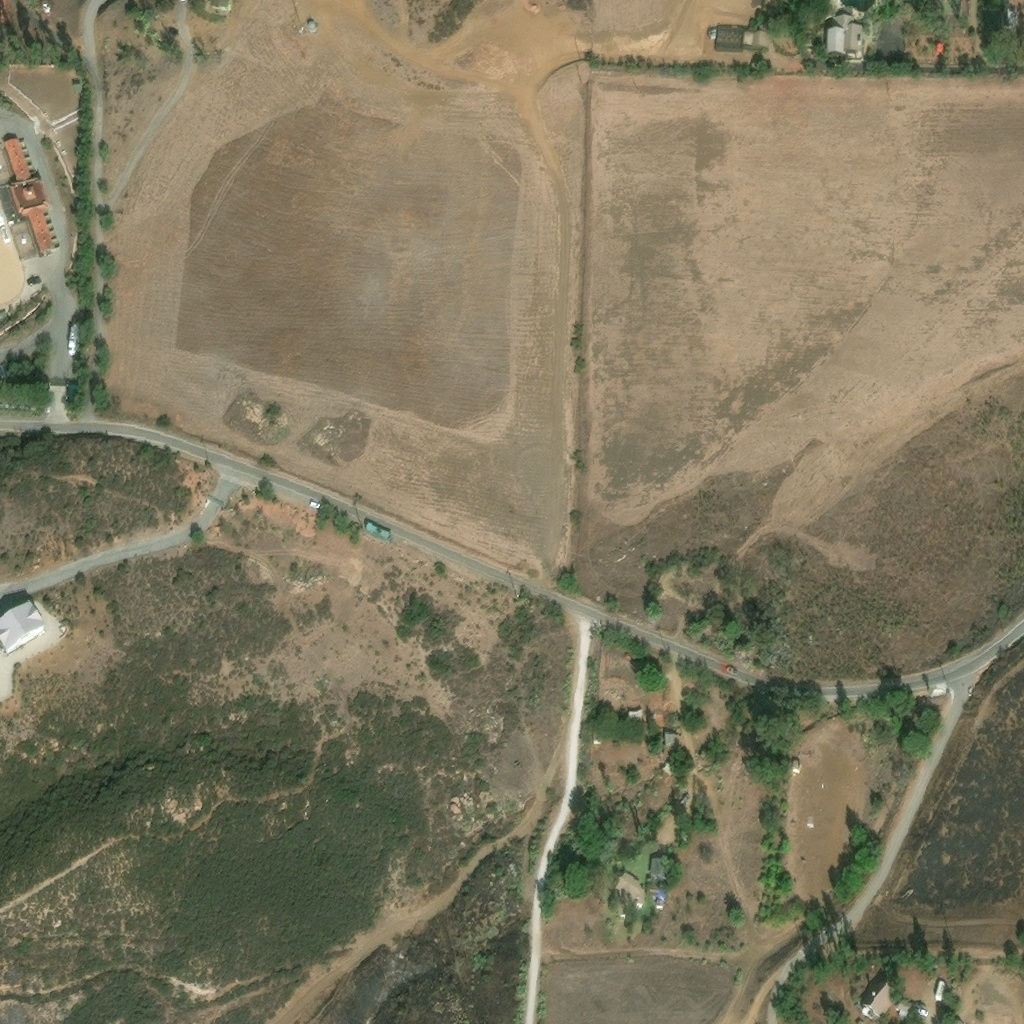0 no-damage: (825, 7, 866, 60), (856, 981, 898, 1023), (708, 24, 769, 52), (612, 872, 652, 913), (648, 859, 670, 882), (896, 1002, 919, 1023), (932, 982, 946, 1004), (660, 760, 676, 778), (626, 710, 643, 723), (305, 20, 318, 35), (932, 43, 944, 57), (663, 735, 675, 748), (790, 761, 801, 775)
3 destroyed: (929, 685, 946, 701), (779, 62, 795, 71), (449, 71, 463, 78)
4 un-classified: (208, 0, 229, 12), (40, 0, 52, 14), (0, 0, 7, 15), (1016, 3, 1023, 11)
